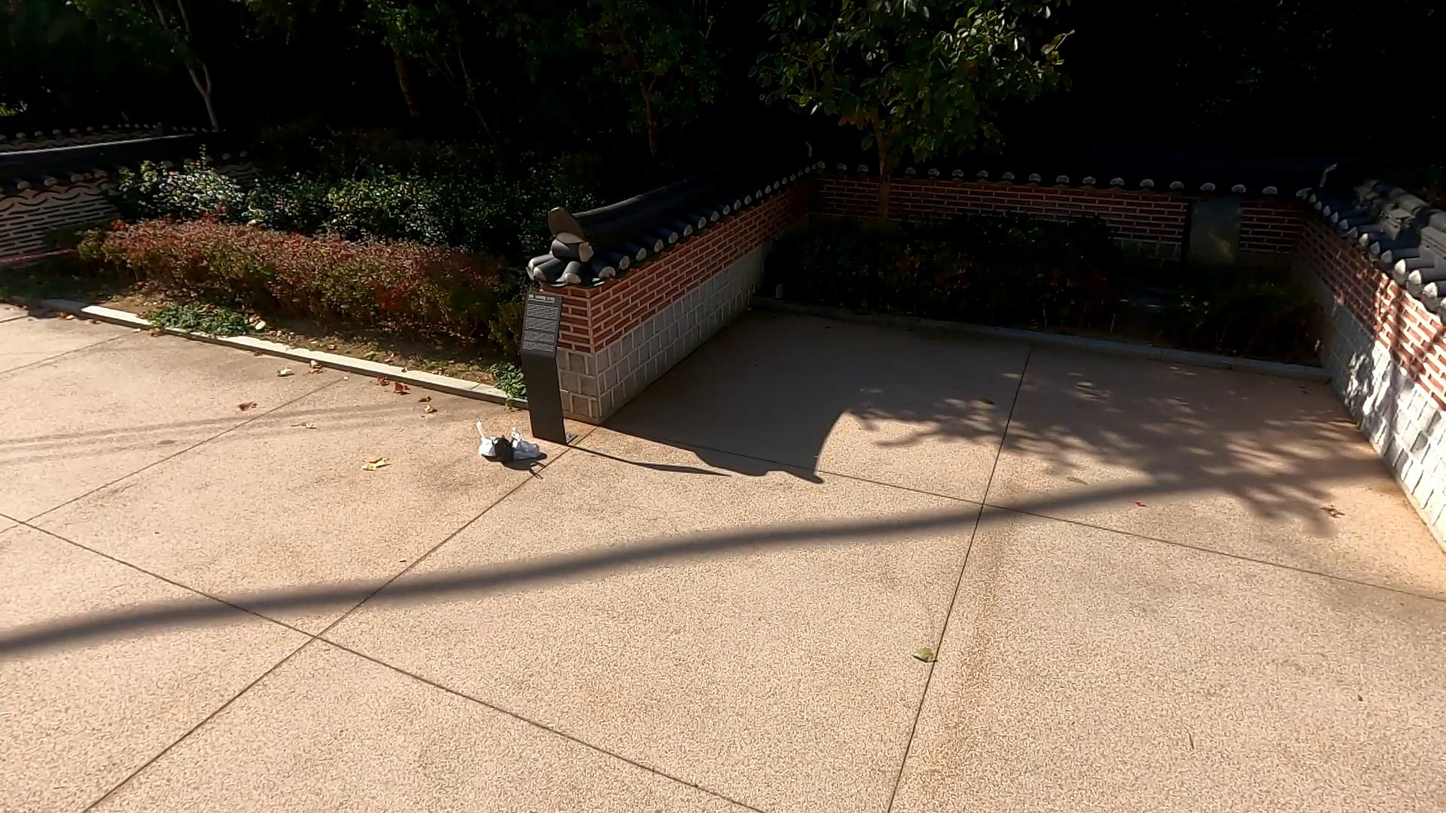trash: (505, 421, 545, 463), (485, 423, 514, 465), (475, 416, 500, 460)
